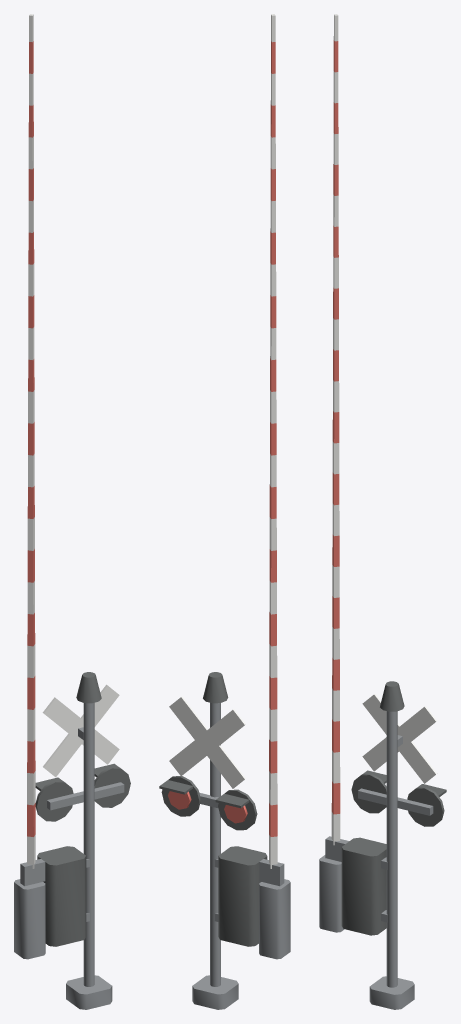
The model's file is crossing-gate-3.glb.
3 views of the same model, side by side, from view 1: azimuth 30°, elevation 25°; view 2: azimuth 150°, elevation 25°; view 3: azimuth 330°, elevation 25° (orthographic). The views are drawn at different scales.
Visible parts, largest first — view 1: crossing-gate-3; view 2: crossing-gate-3; view 3: crossing-gate-3.
Boxes of the visible parts, x1,y1,x2,y2 form: crossing-gate-3: (14,14,130,1009); crossing-gate-3: (159,14,290,1009); crossing-gate-3: (319,14,446,1009).
Bounding box in the file's own units: 0.1229 × 1 × 0.045.
